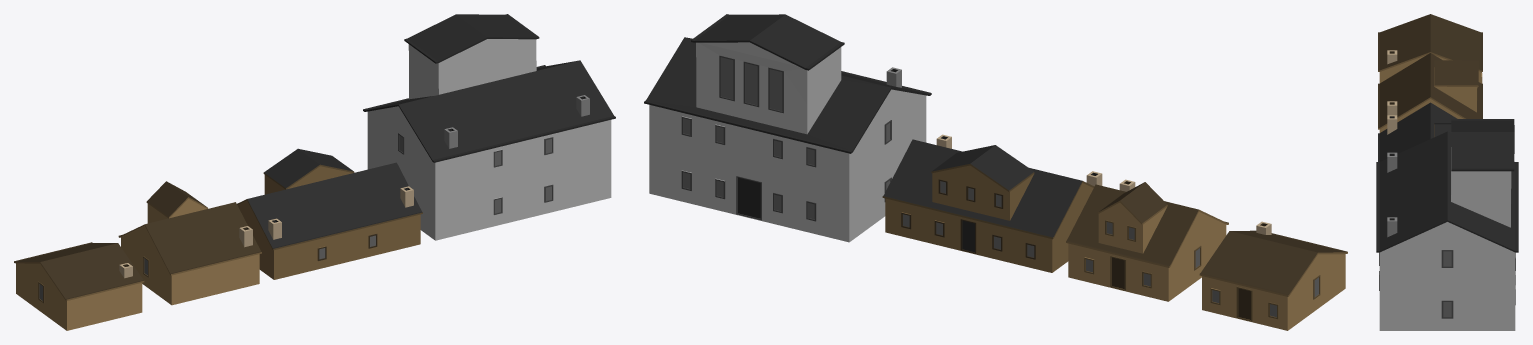
The model's file is Main Houses.fbx.
The picture shows the model from 3 angles, left to right: view 1: azimuth 30°, elevation 25°; view 2: azimuth 150°, elevation 25°; view 3: azimuth 270°, elevation 25°; orthographic projection. The views are drawn at different scales.
Visible parts, largest first — view 1: BigHouse LVL 3.001, BigHouse LVL 3, BigHouse LVL2, BigHouse LVL 1; view 2: BigHouse LVL 3.001, BigHouse LVL 3, BigHouse LVL2, BigHouse LVL 1; view 3: BigHouse LVL 3.001, BigHouse LVL2, BigHouse LVL 1, BigHouse LVL 3.
Boxes of the visible parts, x1,y1,x2,y2 form: BigHouse LVL 3.001: (363, 14, 615, 240); BigHouse LVL 3: (237, 148, 422, 279); BigHouse LVL2: (118, 181, 261, 305); BigHouse LVL 1: (14, 242, 144, 330); BigHouse LVL 3.001: (644, 14, 931, 242); BigHouse LVL 3: (882, 134, 1102, 272); BigHouse LVL2: (1066, 179, 1228, 301); BigHouse LVL 1: (1199, 221, 1347, 330); BigHouse LVL 3.001: (1376, 119, 1518, 330); BigHouse LVL2: (1378, 53, 1482, 132); BigHouse LVL 1: (1378, 14, 1482, 83); BigHouse LVL 3: (1378, 102, 1457, 161).
Size of the model in its own units: 3741 by 1017 by 840.
